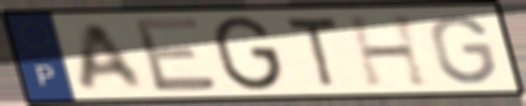A: (76, 20, 150, 93)
E: (129, 15, 223, 95)
G: (211, 14, 287, 94), (428, 12, 500, 87)
H: (344, 12, 436, 90)
T: (281, 14, 342, 91)
